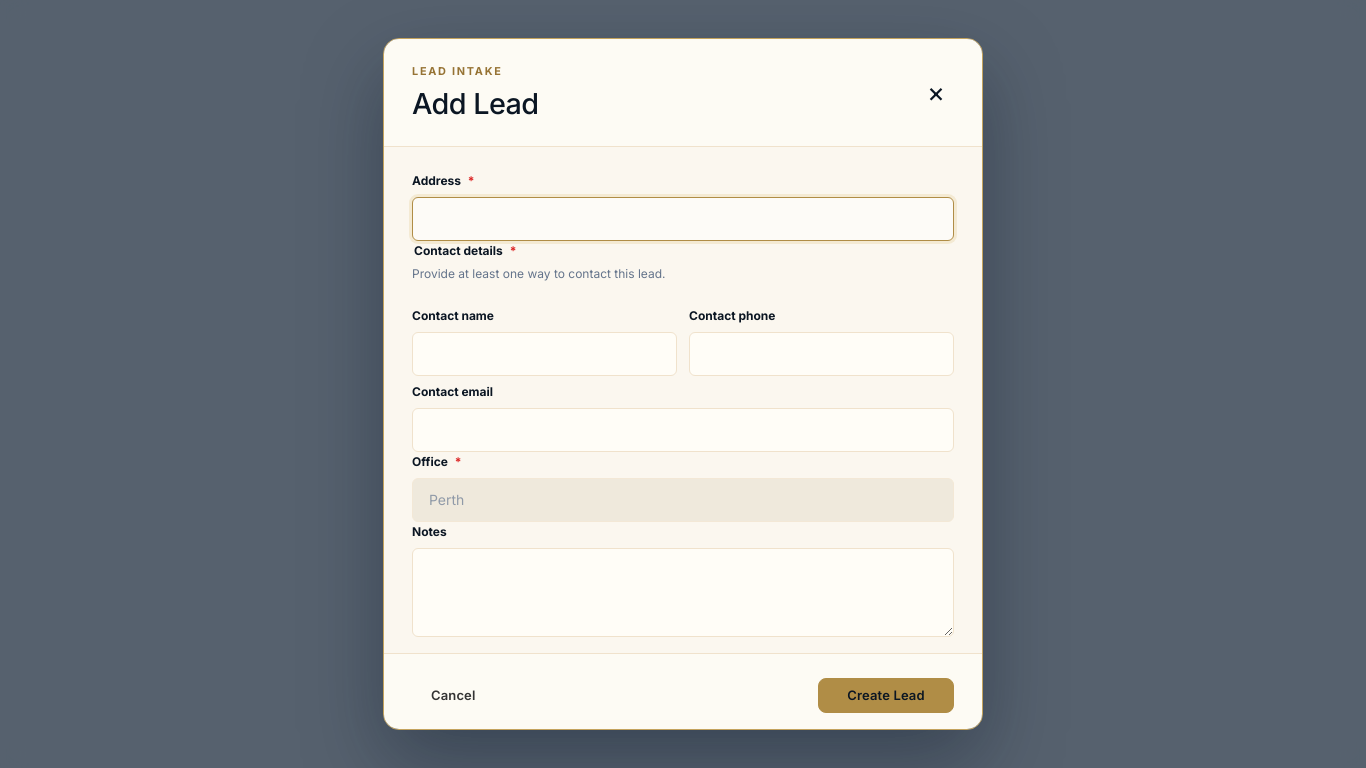
Test: AddLeadModal › shows a clear error when ingestion returns geocoding-failed
This screenshot has width=1366, height=768.
In the field labelled "Address *": (683, 219) x1=412 y1=197 x2=954 y2=241, type "42 Smith Street, Joondalup WA 6027"
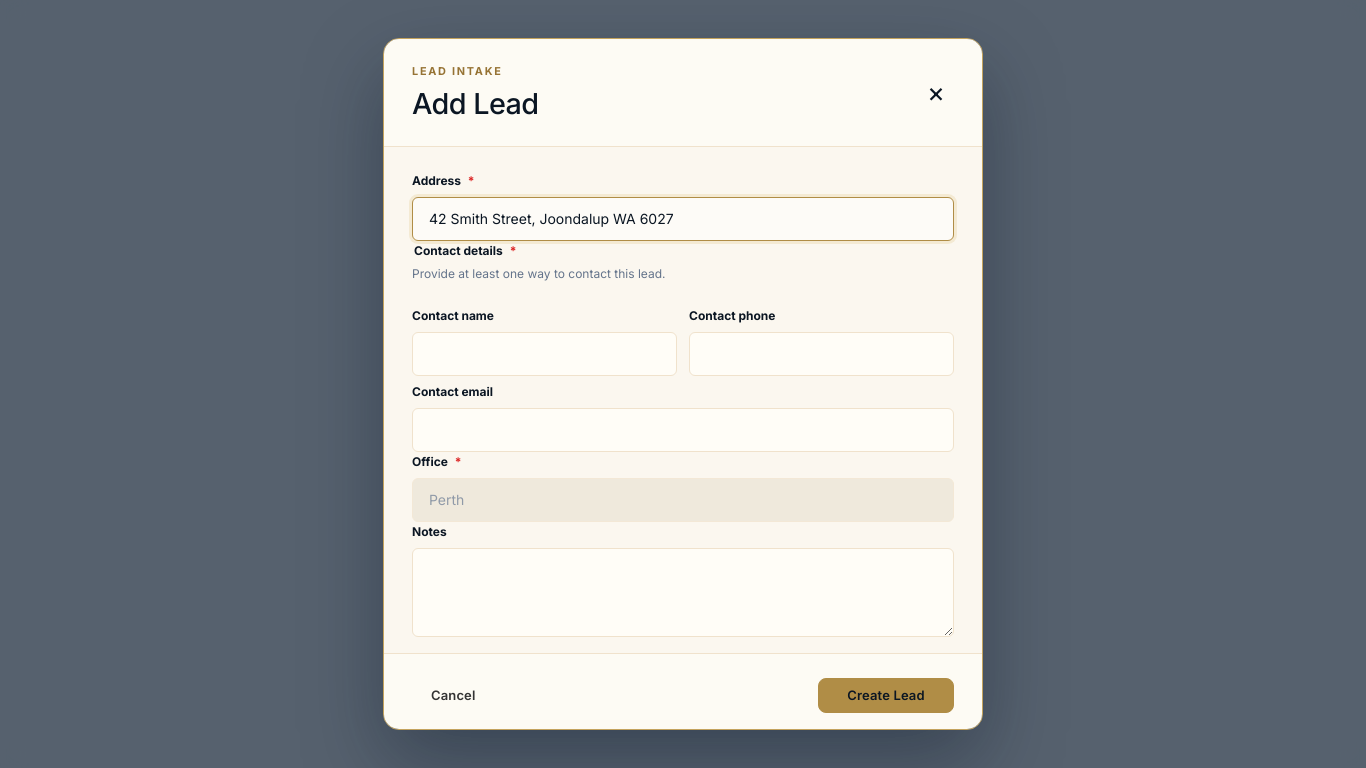
In the field labelled "Contact name": (544, 354) x1=412 y1=332 x2=677 y2=376, type "Ada Lovelace"
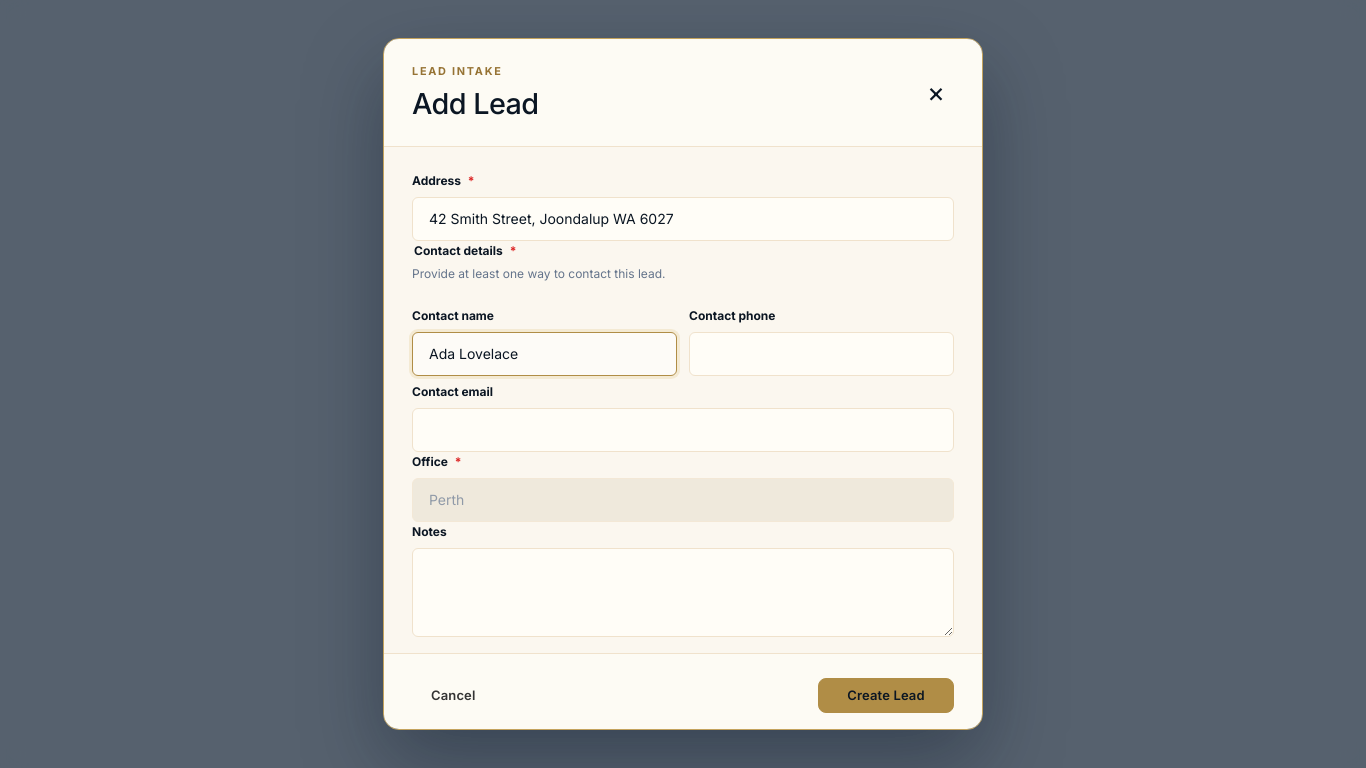
Click the button "Create Lead": (886, 696) x1=818 y1=678 x2=954 y2=713
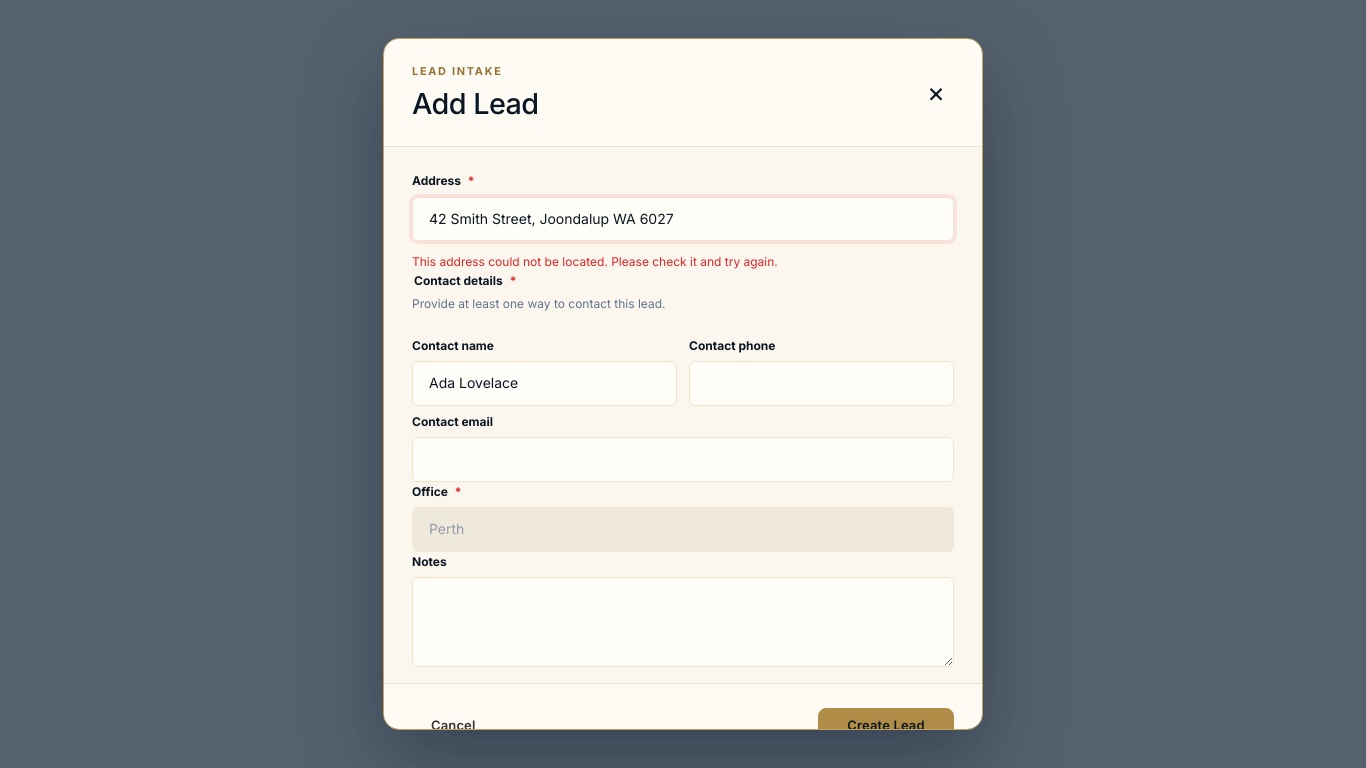
Expected: the message shows "could not be located", x1=412 y1=254 x2=778 y2=269
